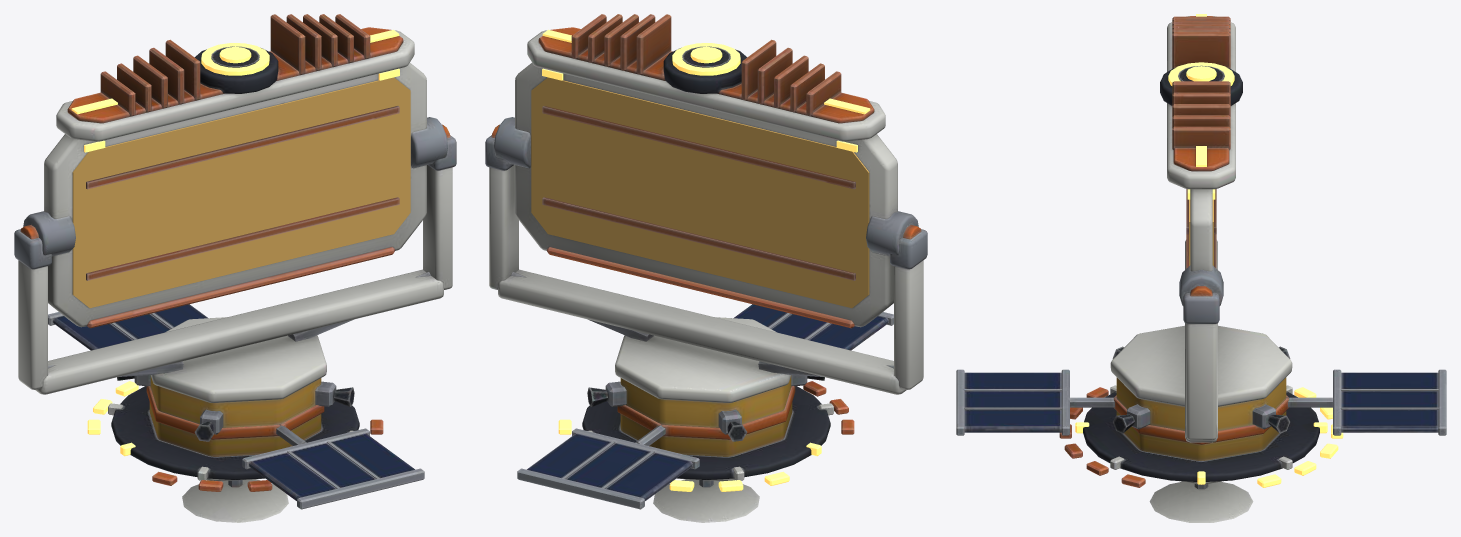
Rendered from sat_thermal.glb.
3 renders of one model, left to right at view 1: azimuth 30°, elevation 25°; view 2: azimuth 150°, elevation 25°; view 3: azimuth 270°, elevation 25°, orthographic. The views are drawn at different scales.
Parts seen in each view (by area): view 1: sat_thermal, sat_thermal_glow; view 2: sat_thermal, sat_thermal_glow; view 3: sat_thermal, sat_thermal_glow.
Boxes of the visible parts, x1,y1,x2,y2 form: sat_thermal: (14,14,456,522); sat_thermal_glow: (71,29,410,456); sat_thermal: (485,14,927,522); sat_thermal_glow: (531,29,870,491); sat_thermal: (956,16,1446,522); sat_thermal_glow: (1075,14,1343,487).
Size of the model in its own units: 3.42 by 3.64 by 3.54.
Materials: 3 (1 with a texture image).
